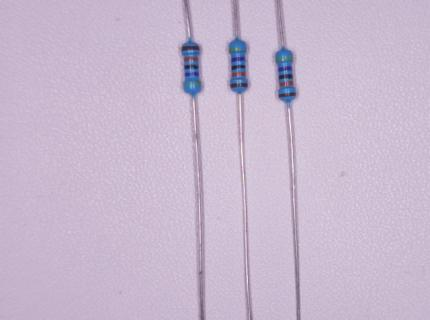Black band: (279, 74, 292, 80), (184, 65, 198, 70), (231, 65, 245, 70)
Brown band: (278, 93, 296, 98), (182, 46, 199, 51), (231, 83, 247, 88)
Orange band: (279, 82, 294, 87), (232, 72, 245, 77), (184, 57, 198, 61)
Violet band: (231, 57, 245, 62), (278, 66, 292, 71), (185, 72, 199, 76)
Yellow band: (184, 81, 202, 86), (276, 57, 293, 62), (230, 48, 246, 51)
